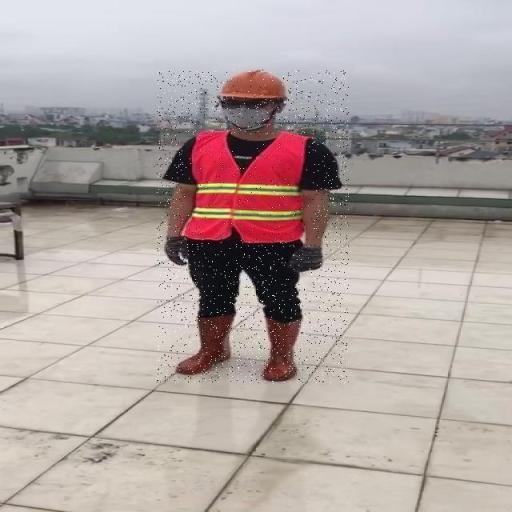Boots: (174, 312, 236, 376), (258, 314, 308, 384)
Helmet: (218, 67, 288, 99)
Person: (156, 70, 348, 384)
